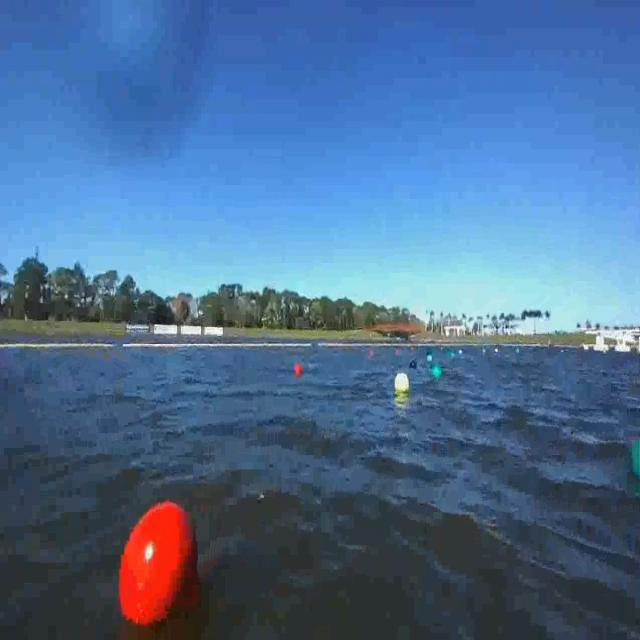black-buoy: (411, 358, 418, 369)
green-buoy: (630, 439, 640, 482), (432, 363, 442, 378)
red-buoy: (107, 493, 222, 638), (294, 364, 302, 376)
yellow-buoy: (396, 372, 412, 394)
